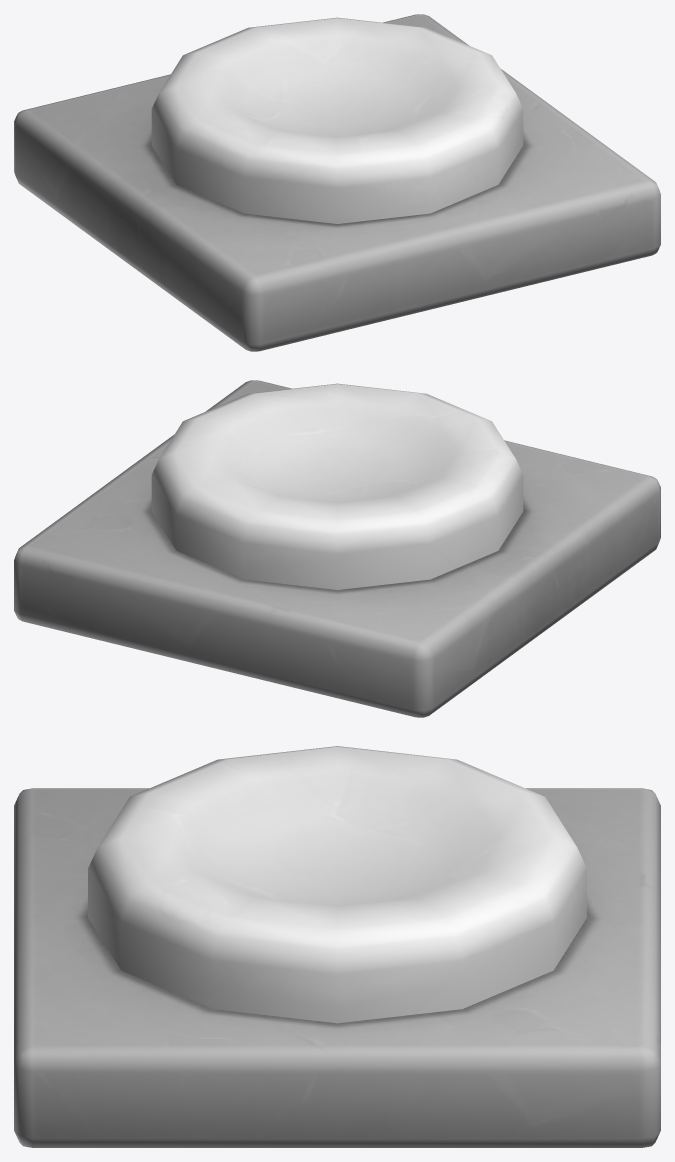
Rendered from Controller_01.fbx.
3 views of the same model, one above another, from view 1: azimuth 30°, elevation 25°; view 2: azimuth 150°, elevation 25°; view 3: azimuth 270°, elevation 25° (orthographic). The views are drawn at different scales.
Visible parts, largest first — view 1: Controller_01; view 2: Controller_01; view 3: Controller_01.
Part boxes in pixels (bbox=[...]): Controller_01: bbox=[14, 14, 660, 351]; Controller_01: bbox=[14, 380, 660, 717]; Controller_01: bbox=[14, 746, 660, 1147].
Size of the model in its own units: 1.75 by 0.5368 by 1.75.
